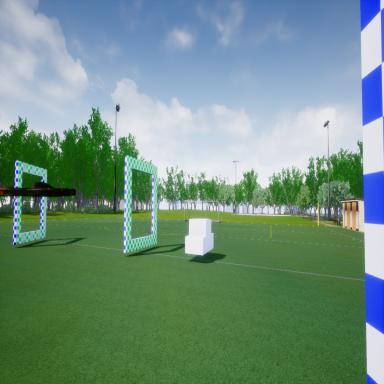gate: (122, 148, 159, 261), (10, 152, 51, 250)
